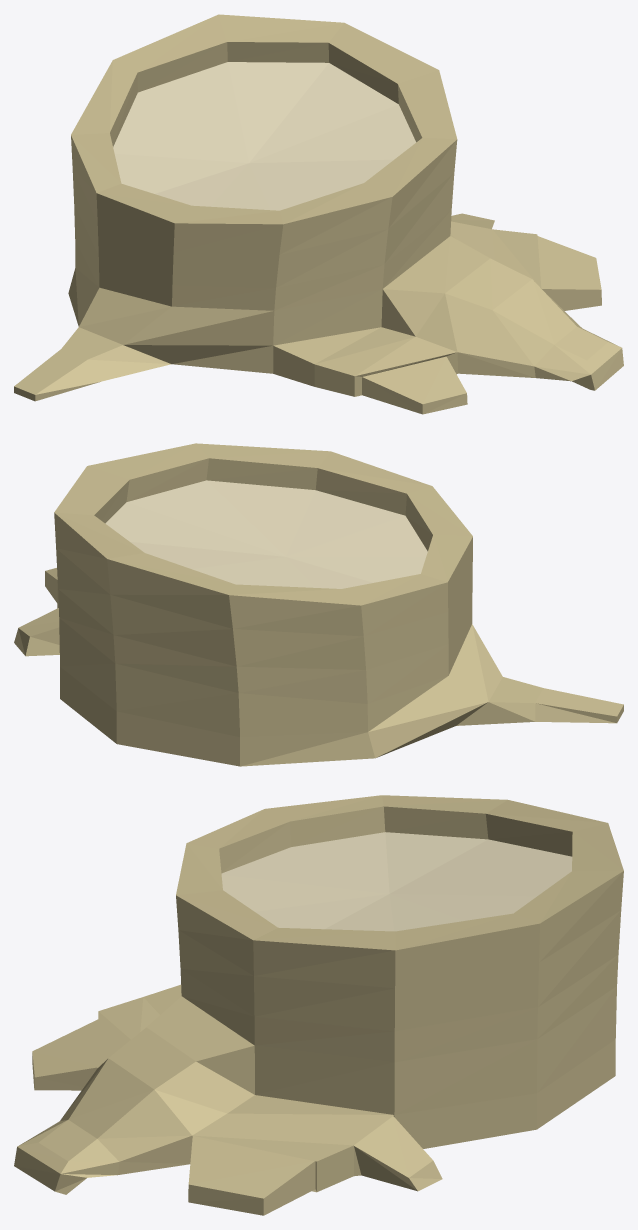
Rendered from stump.fbx.
3 views of the same model, one above another, from view 1: azimuth 30°, elevation 25°; view 2: azimuth 150°, elevation 25°; view 3: azimuth 270°, elevation 25° (orthographic). The views are drawn at different scales.
Parts seen in each view (by area): view 1: pCylinder1; view 2: pCylinder1; view 3: pCylinder1.
Boxes of the visible parts, x1,y1,x2,y2 form: pCylinder1: (14,14,623,414); pCylinder1: (14,443,623,766); pCylinder1: (14,795,623,1215).
Bounding box in the file's own units: 6.75 × 2.36 × 5.48.
